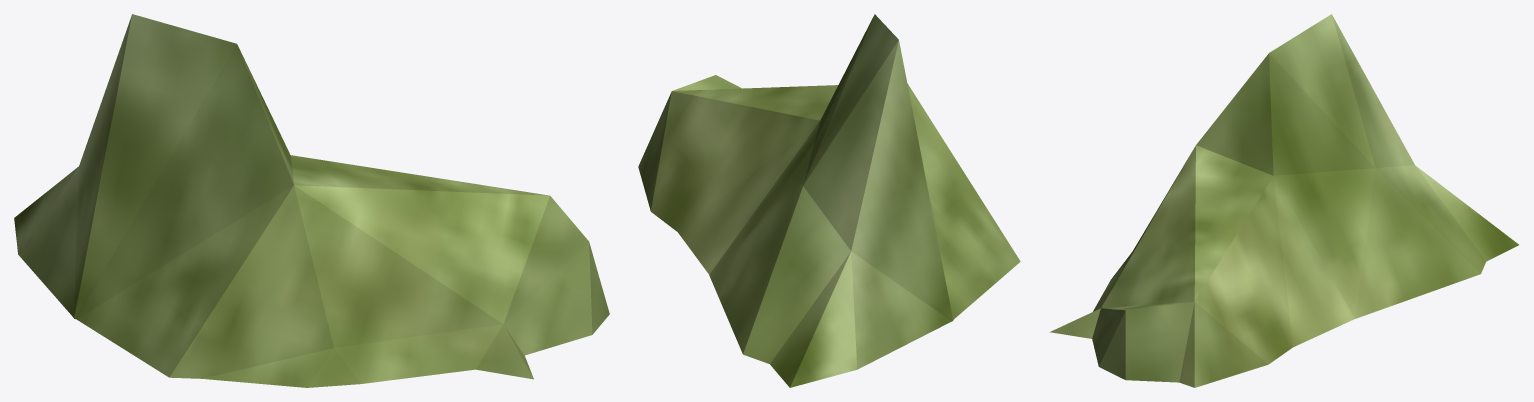
3 views of the same model, side by side, from view 1: azimuth 30°, elevation 25°; view 2: azimuth 150°, elevation 25°; view 3: azimuth 270°, elevation 25° (orthographic). The views are drawn at different scales.
Size of the model in its own units: 0.4388 by 0.2854 by 0.5263.
Materials: 1 (1 with a texture image).
